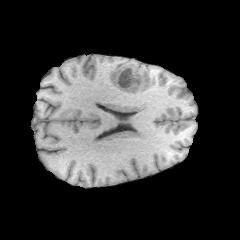glioma: (108, 60, 150, 92)
